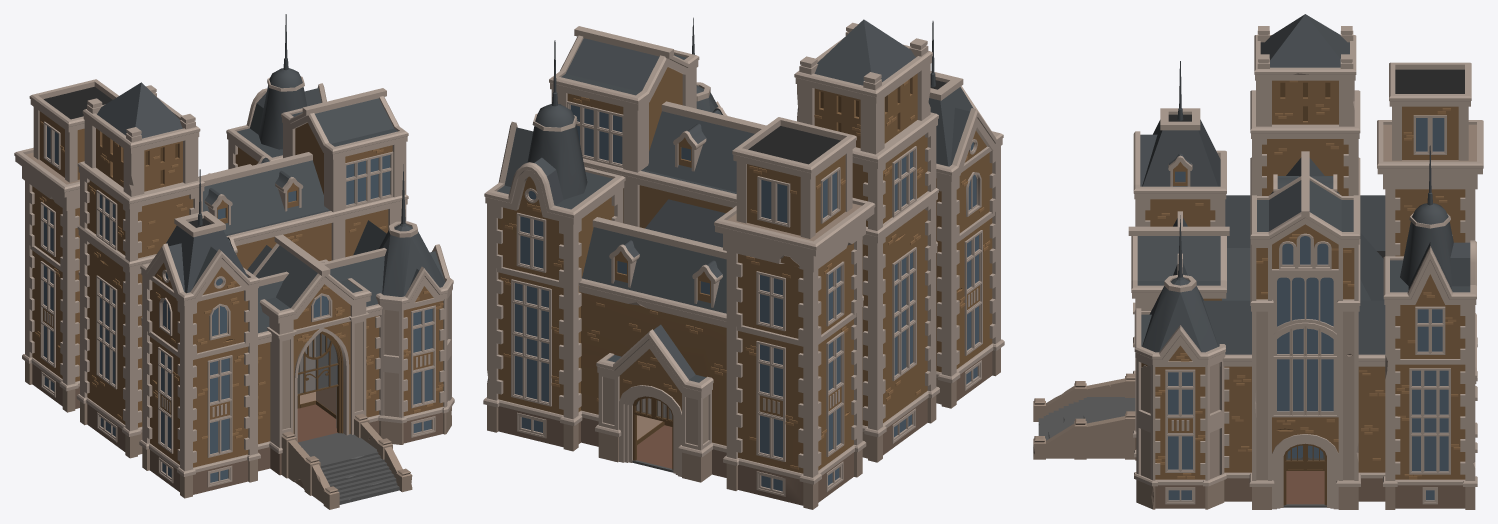
The model's file is SM_Buildings_University_01.fbx.
3 renders of one model, left to right at view 1: azimuth 30°, elevation 25°; view 2: azimuth 150°, elevation 25°; view 3: azimuth 270°, elevation 25°, orthographic. The views are drawn at different scales.
Parts seen in each view (by area): view 1: SM_Buildings_University_01; view 2: SM_Buildings_University_01; view 3: SM_Buildings_University_01.
Boxes of the visible parts, x1,y1,x2,y2 form: SM_Buildings_University_01: (14, 14, 454, 509); SM_Buildings_University_01: (483, 17, 1004, 509); SM_Buildings_University_01: (1033, 14, 1483, 509).
Bounding box in the file's own units: 21.17 × 24.6 × 27.02.
